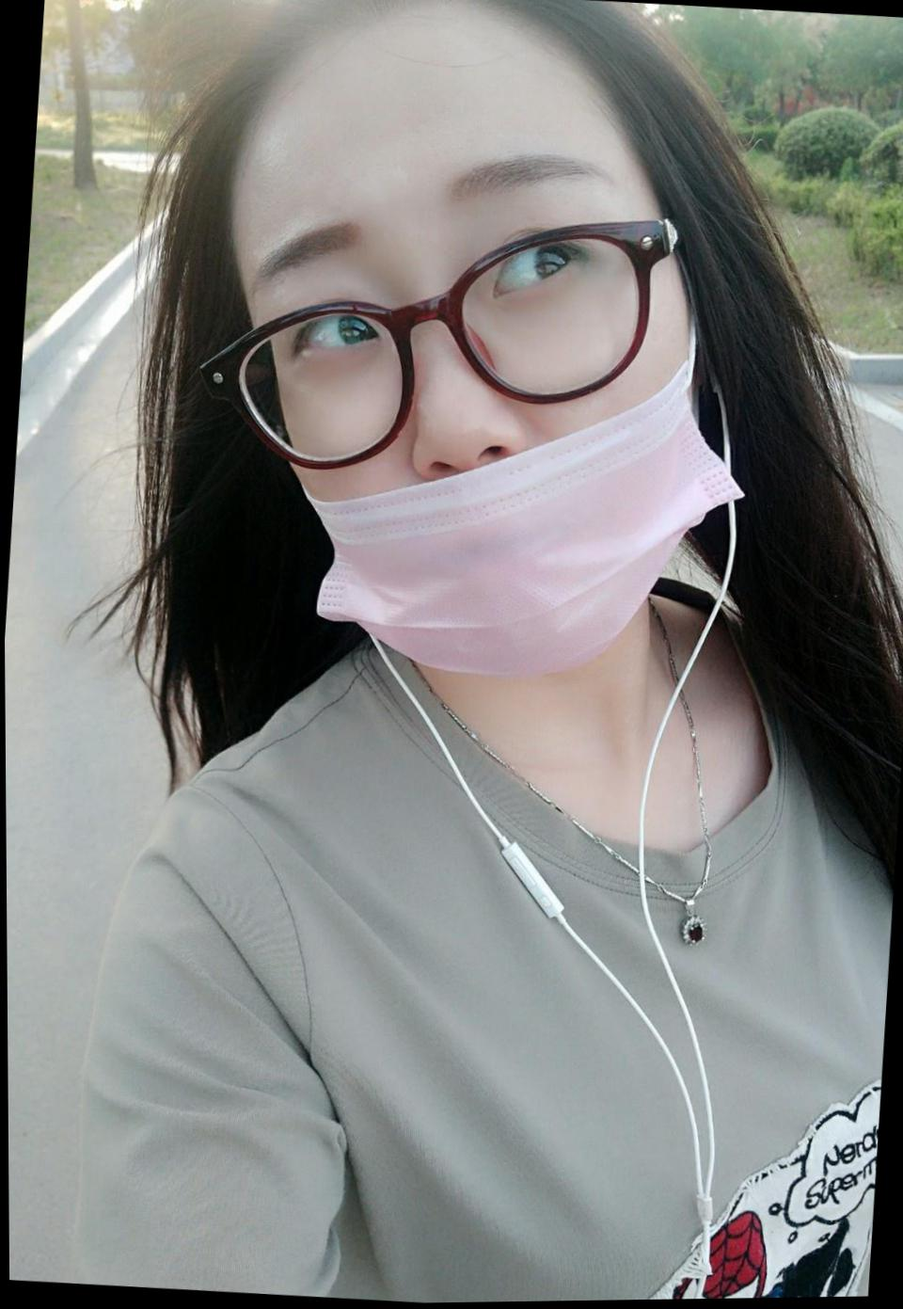WRONG: (205, 104, 732, 701)
